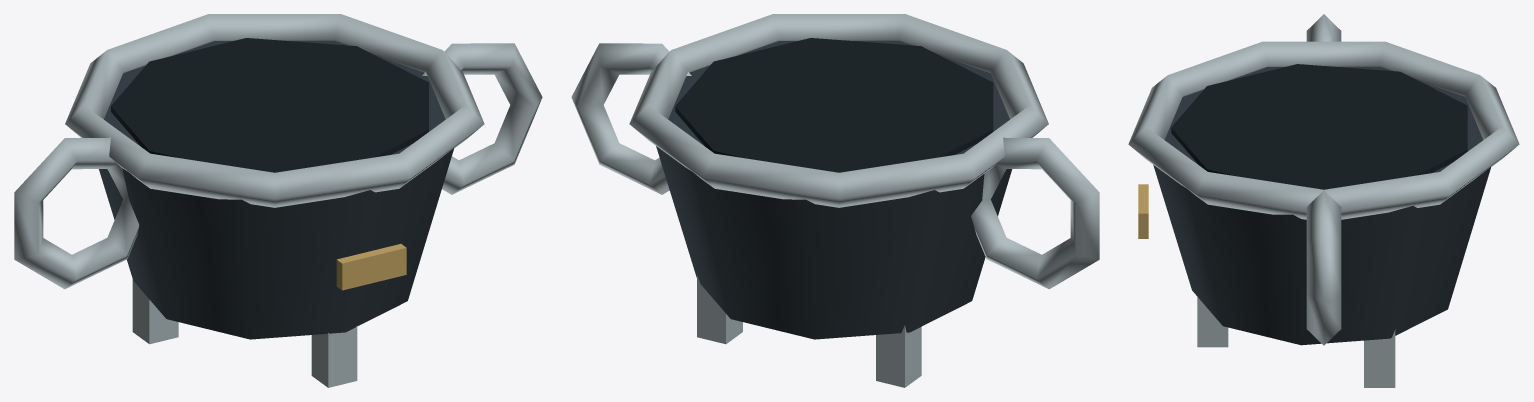
File: fixed-pot-lod1.glb
The picture shows the model from 3 angles, left to right: view 1: azimuth 30°, elevation 25°; view 2: azimuth 150°, elevation 25°; view 3: azimuth 270°, elevation 25°; orthographic projection. The views are drawn at different scales.
Parts seen in each view (by area): view 1: piece_whole; view 2: piece_whole; view 3: piece_whole.
Part boxes in pixels (x1,y1,x2,y2): piece_whole: (14,14,542,387); piece_whole: (571,14,1099,387); piece_whole: (1128,14,1519,387).
Bounding box in the file's own units: 0.8186 × 0.3671 × 0.5633.
